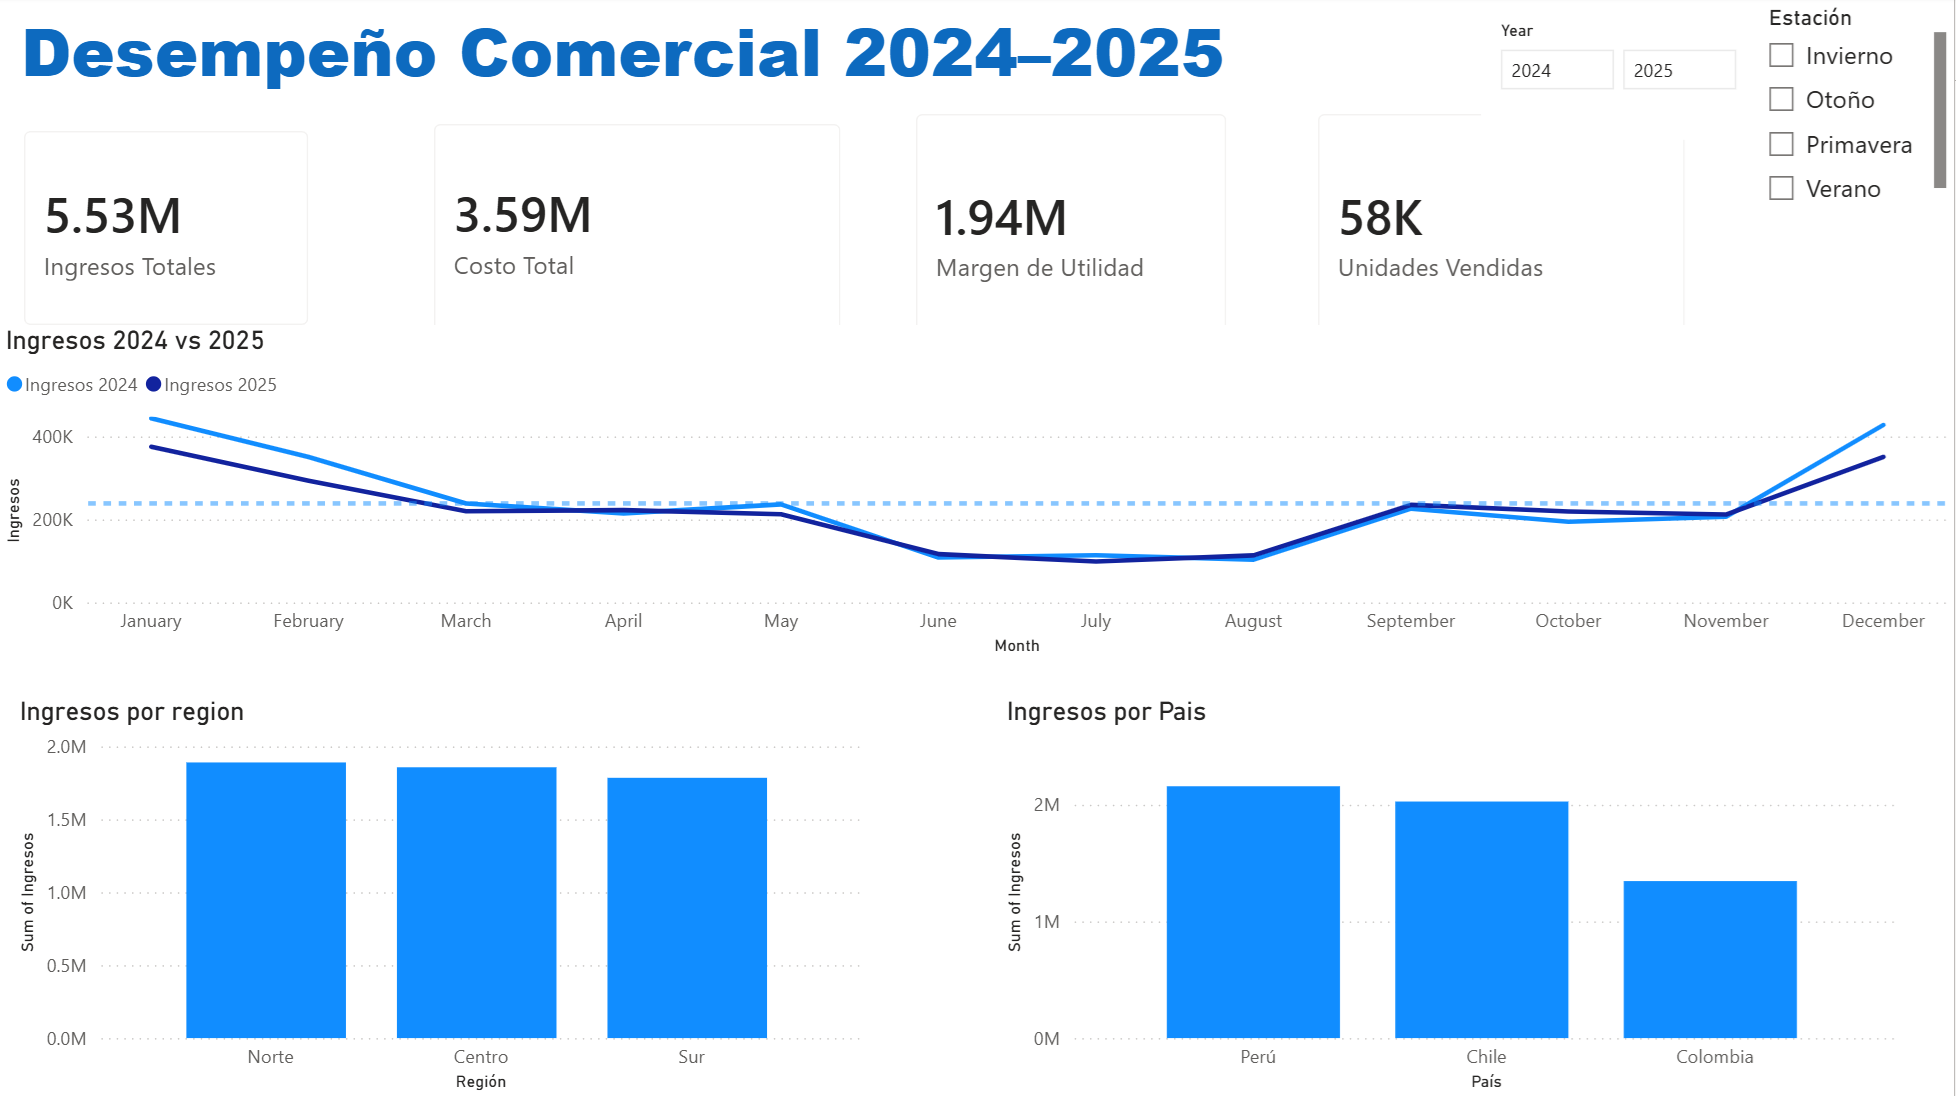

The page's visual inventory and layout, read from the dashboard file:
{"tool":"powerbi","page":{"name":"Overview","canvas":[1280,720],"ordinal":0},"visuals":[{"type":"textbox","box":[9.6,0,900.2,69.7],"z":0},{"type":"cardVisual","fields":{"Data":["Andes_Retail_Group_2024_2025.Ingresos Totales"]},"box":[0,70.9,220.6,161.1],"z":1000},{"type":"cardVisual","fields":{"Data":["Sum(Andes_Retail_Group_2024_2025.Costo)"]},"box":[268.6,66.3,300.6,170.3],"z":2000},{"type":"cardVisual","fields":{"Data":["Andes_Retail_Group_2024_2025.Margen de Utilidad"]},"box":[584,59.4,237.7,185.1],"z":3000},{"type":"cardVisual","fields":{"Data":["Sum(Andes_Retail_Group_2024_2025.Unidades_Vendidas)"]},"box":[846.9,59.4,274.3,185.1],"z":4000},{"type":"slicer","fields":{"Values":["Andes_Retail_Group_2024_2025.Fecha_Pedido.Variation.Date Hierarchy.Year"]},"box":[970.3,10.3,176,83.4],"z":5000},{"type":"slicer","fields":{"Values":["Andes_Retail_Group_2024_2025.Estación"]},"box":[1146.2,0,133.8,141.7],"z":6000},{"type":"lineChart","title":"Ingresos 2024 vs 2025","fields":{"Category":["Andes_Retail_Group_2024_2025.Fecha_Pedido.Variation.Date Hierarchy.Month"],"Y":["Andes_Retail_Group_2024_2025.Ingresos 2024","Andes_Retail_Group_2024_2025.Ingresos 2025"]},"box":[0,214.9,1280,220.6],"z":7000},{"type":"columnChart","title":"Ingresos por Pais","fields":{"Y":["Sum(Andes_Retail_Group_2024_2025.Ingresos)"],"Category":["Andes_Retail_Group_2024_2025.País"]},"box":[654.9,457.1,593.1,262.9],"z":8000},{"type":"columnChart","title":"Ingresos por region","fields":{"Y":["Sum(Andes_Retail_Group_2024_2025.Ingresos)"],"Category":["Andes_Retail_Group_2024_2025.Región"]},"box":[9.1,457.1,560,262.9],"z":9000}]}

Visuals, with their boxes in screenshot pixels (x1, y1, x2, y2), scaled from the page's 1280x720 canvas onto the 1956x1096 screenshot:
textbox: <box>15,0,1390,106</box>
cardVisual - Andes_Retail_Group_2024_2025.Ingresos Totales: <box>0,108,337,353</box>
cardVisual - Sum(Andes_Retail_Group_2024_2025.Costo): <box>410,101,870,360</box>
cardVisual - Andes_Retail_Group_2024_2025.Margen de Utilidad: <box>892,90,1256,372</box>
cardVisual - Sum(Andes_Retail_Group_2024_2025.Unidades_Vendidas): <box>1294,90,1713,372</box>
slicer - Andes_Retail_Group_2024_2025.Fecha_Pedido.Variation.Date Hierarchy.Year: <box>1483,16,1752,143</box>
slicer - Andes_Retail_Group_2024_2025.Estación: <box>1752,0,1955,216</box>
"Ingresos 2024 vs 2025" lineChart: <box>0,327,1955,663</box>
"Ingresos por Pais" columnChart: <box>1001,696,1907,1095</box>
"Ingresos por region" columnChart: <box>14,696,870,1095</box>
